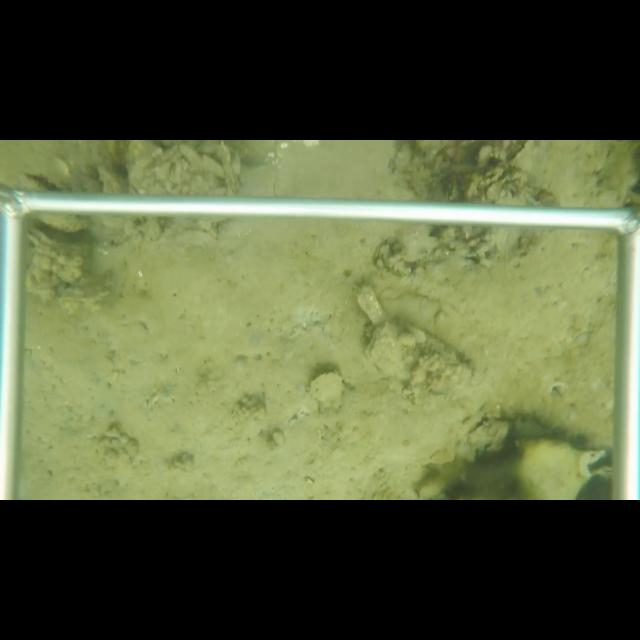Oyster-Closed: (361, 319, 481, 397)
Oyster-Open: (506, 140, 536, 167)
